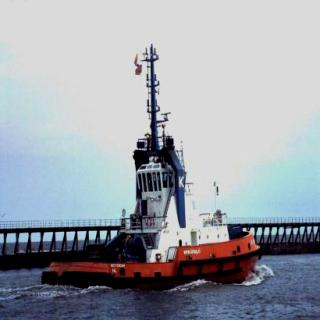Tug Boat: (8, 111, 266, 282)
